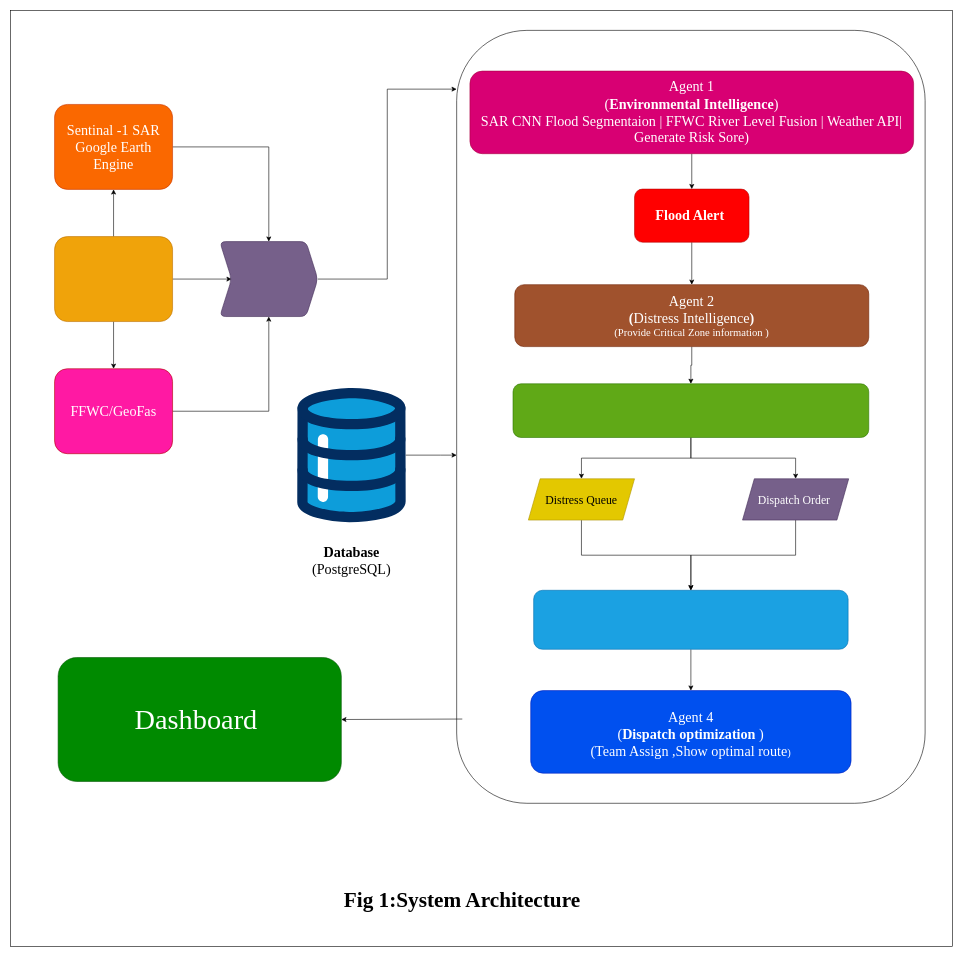
Some shapes in this 963 by 957 pixel diagram are drawn without their labels. Here are the shapes that lost their labels. From the top down, the centre of each, then its label:
At point 113,279: "Open Weather Map".
At point 268,279: "Data Acquisition".
At point 690,410: "Redis 7 Pub/Sub Message Bus".
At point 690,619: "Agent 3 ( Resource Management ) (Allocate Resource)".
